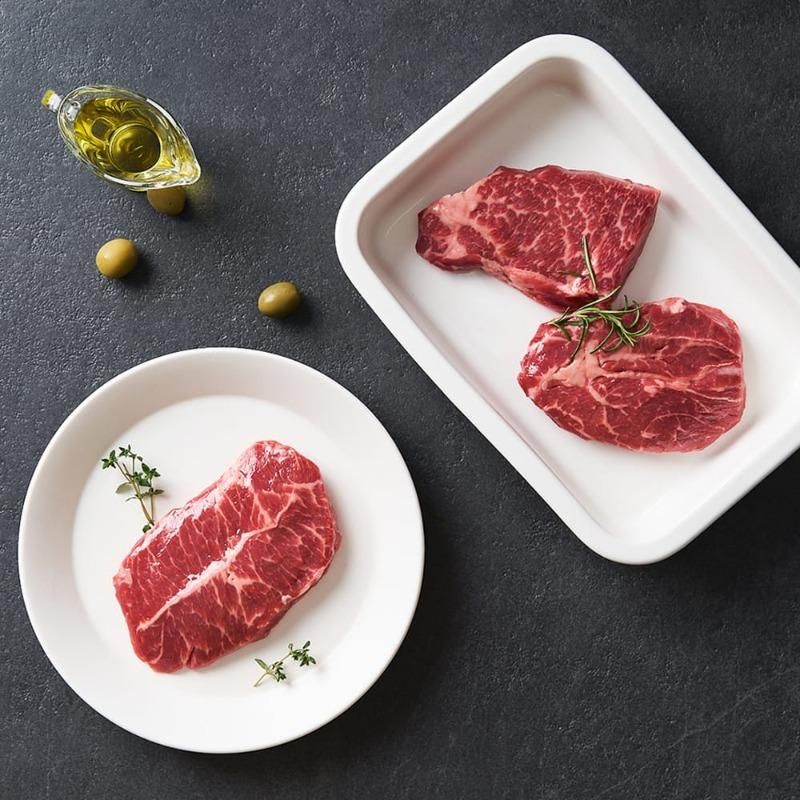beef: (120, 545, 434, 800), (502, 183, 800, 388), (631, 374, 800, 569)
